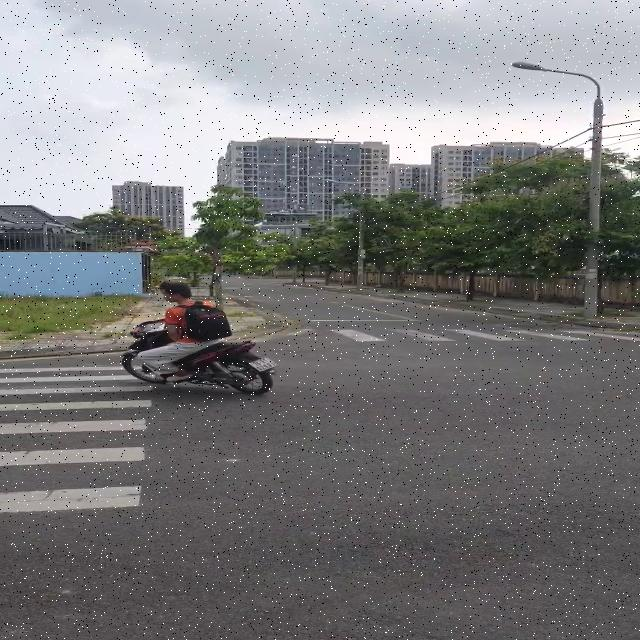no_helmet: (154, 278, 197, 307)
